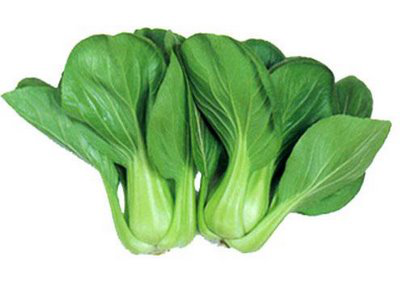Sawi: (16, 26, 378, 237)
